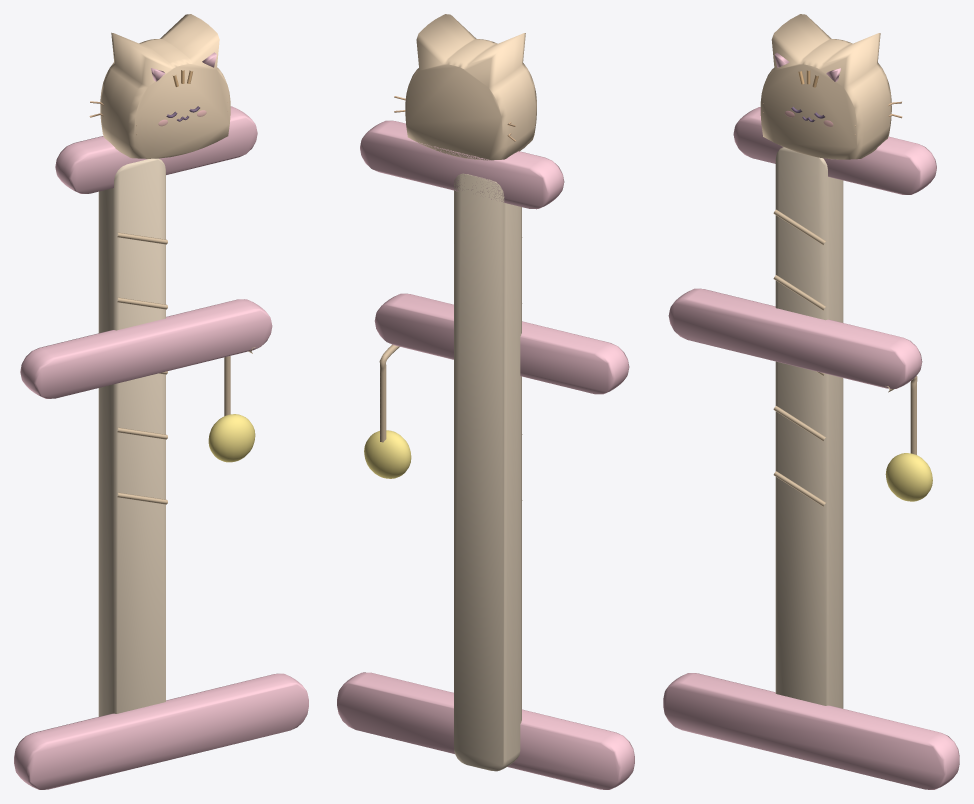
The model's file is decor_1_classic.glb.
The picture shows the model from 3 angles, left to right: view 1: azimuth 30°, elevation 25°; view 2: azimuth 150°, elevation 25°; view 3: azimuth 330°, elevation 25°; orthographic projection.
Parts seen in each view (by area): view 1: decor_1_classic; view 2: decor_1_classic; view 3: decor_1_classic.
Part boxes in pixels (left/top/right/bottom): decor_1_classic: left=14, top=14, right=308, bottom=789; decor_1_classic: left=337, top=14, right=634, bottom=789; decor_1_classic: left=663, top=14, right=959, bottom=789.
Size of the model in its own units: 9.1 by 22.09 by 2.07.
